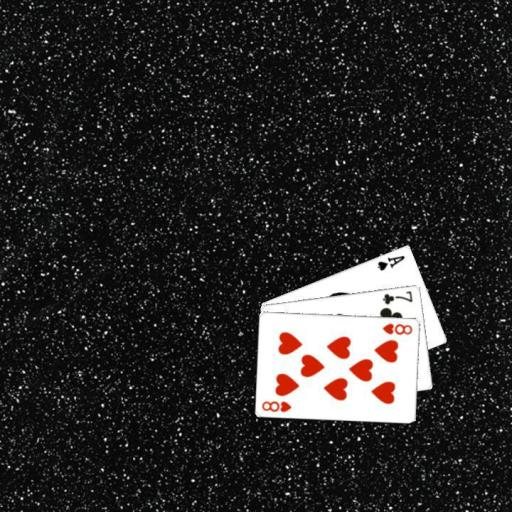7C: (380, 287, 414, 306)
8H: (380, 320, 414, 336), (259, 398, 293, 413)
AS: (375, 252, 407, 272)
